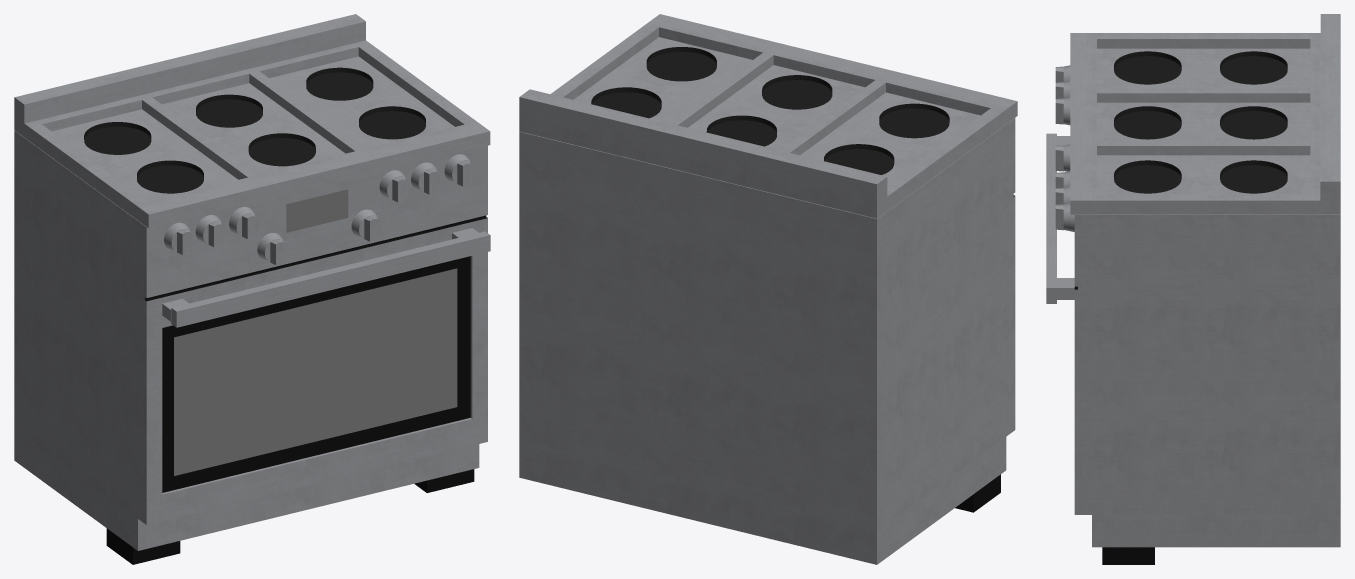
The model's file is RANGE_36.glb.
3 views of the same model, side by side, from view 1: azimuth 30°, elevation 25°; view 2: azimuth 150°, elevation 25°; view 3: azimuth 270°, elevation 25° (orthographic). The views are drawn at different scales.
Parts seen in each view (by area): view 1: Range__w913mm; view 2: Range__w913mm; view 3: Range__w913mm.
Part boxes in pixels (x1,y1,x2,y2): Range__w913mm: (14,14,490,564); Range__w913mm: (519,14,1017,564); Range__w913mm: (1046,14,1340,564).
Size of the model in its own units: 911 by 971 by 676.
4 materials, 1 textured.
